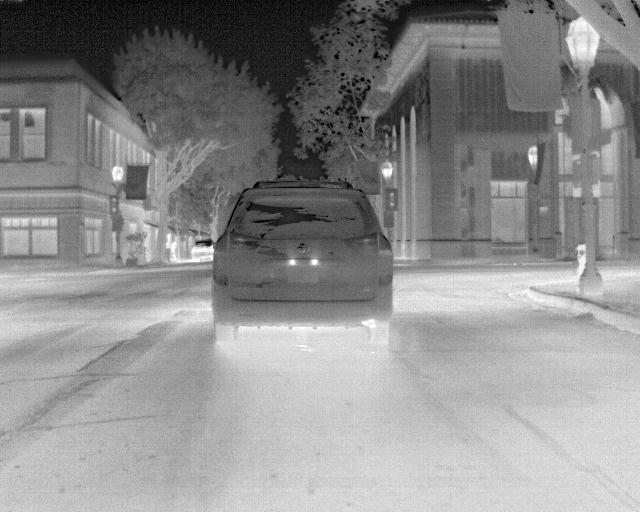bicycle: (213, 177, 393, 343), (189, 238, 219, 262)
